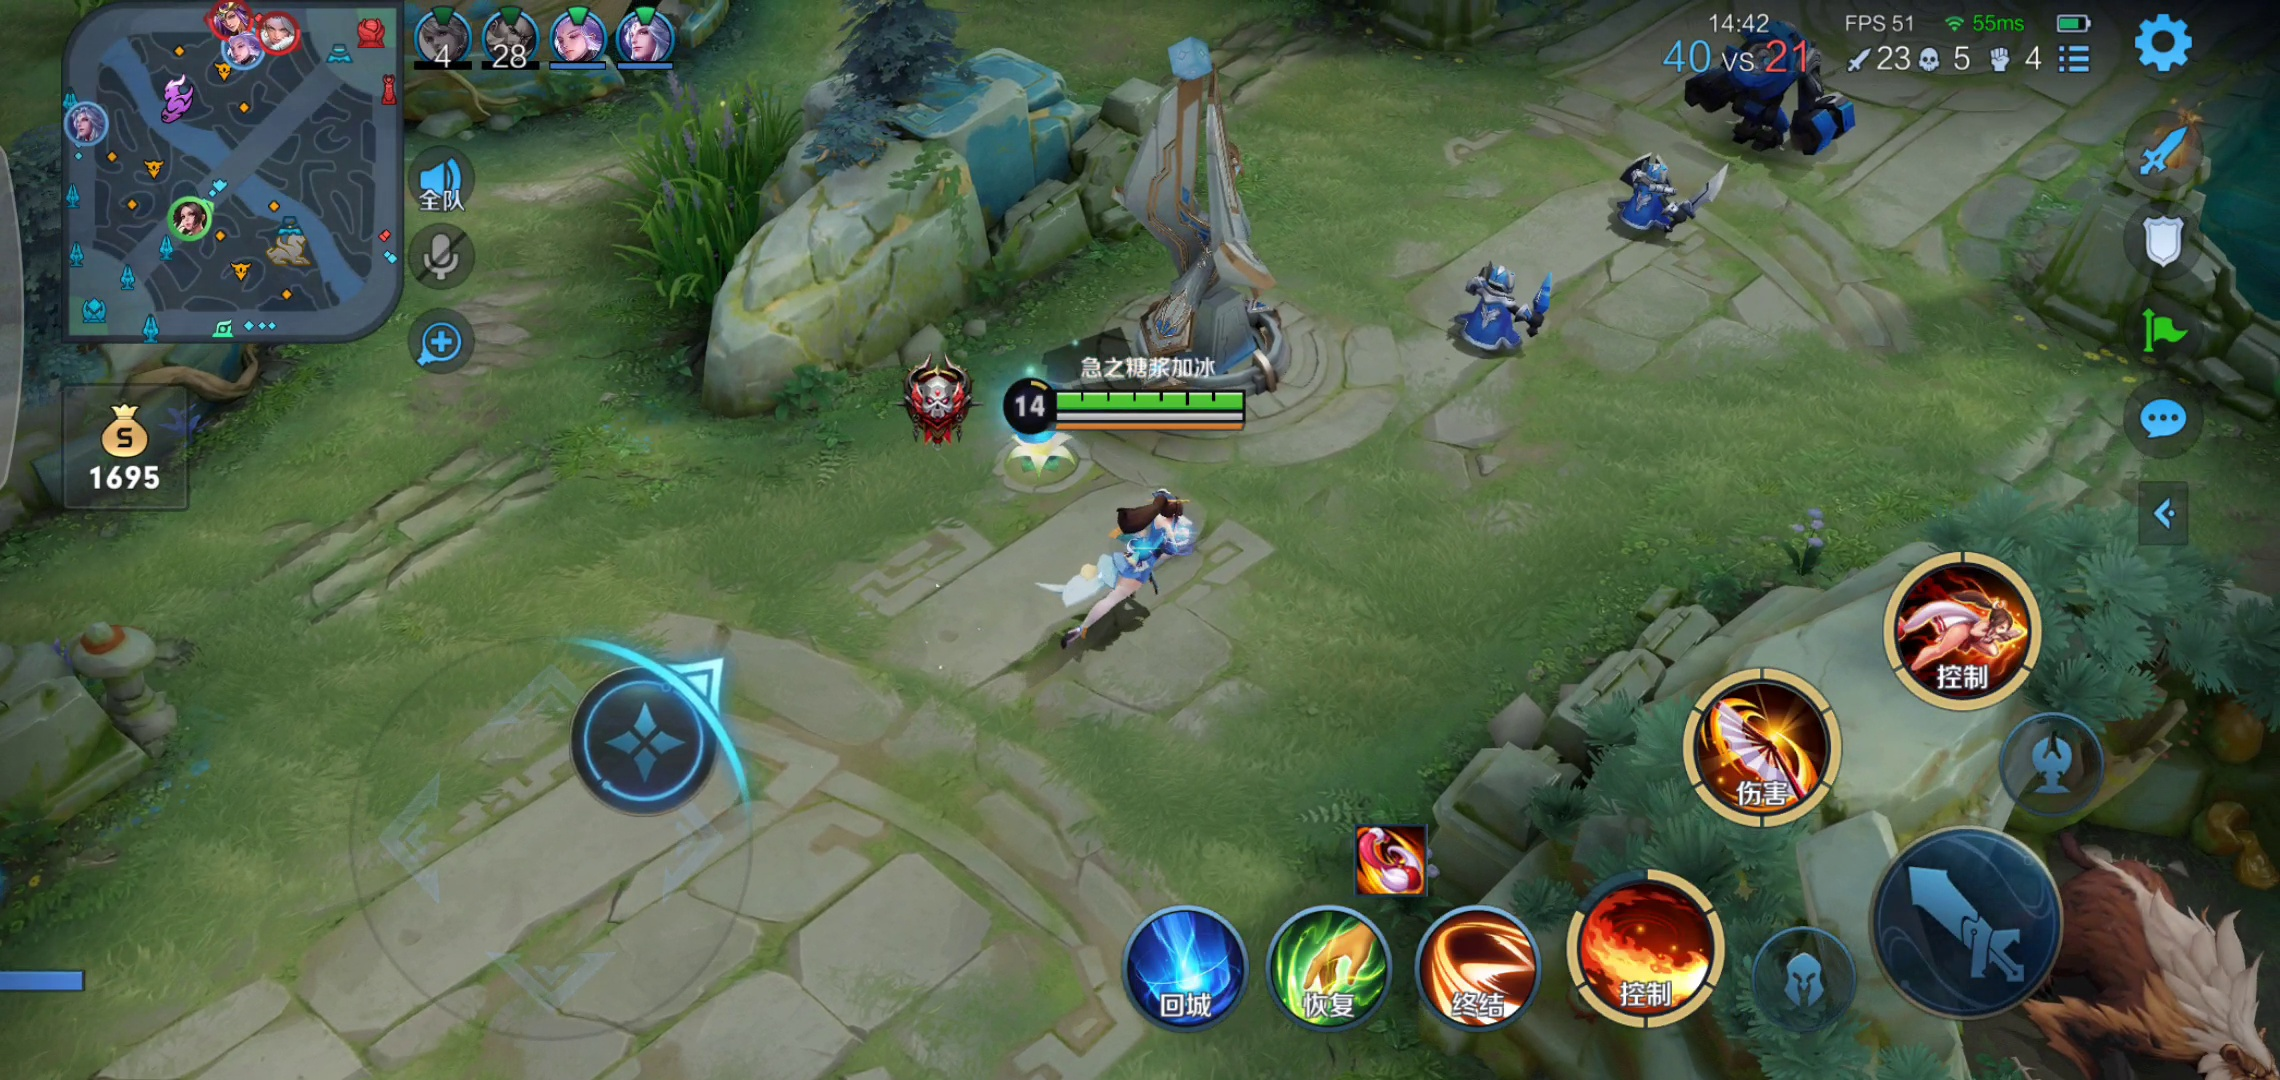grass: (619, 81, 794, 313)
hero: (1038, 481, 1207, 650)
soldier: (1663, 15, 1855, 172), (1589, 142, 1729, 265), (1444, 251, 1573, 366)
tower: (1063, 35, 1323, 406)
wild_monster: (1959, 791, 2271, 1071)
